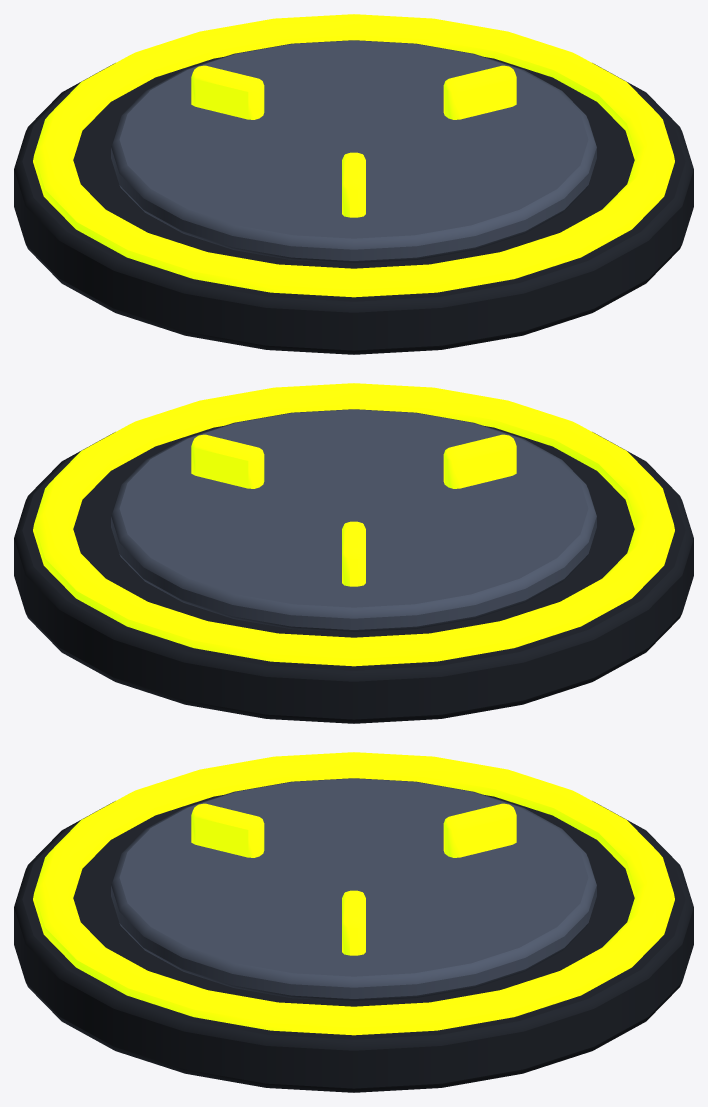
Rendered from jump_pad.glb.
3 views of the same model, one above another, from view 1: azimuth 30°, elevation 25°; view 2: azimuth 150°, elevation 25°; view 3: azimuth 270°, elevation 25° (orthographic).
Parts seen in each view (by area): view 1: jump_pad; view 2: jump_pad; view 3: jump_pad.
Part boxes in pixels (x1=…): jump_pad: x1=14, y1=14, x2=693, y2=354; jump_pad: x1=14, y1=383, x2=693, y2=723; jump_pad: x1=14, y1=752, x2=693, y2=1092.
Bounding box in the file's own units: 1.4 × 0.25 × 1.4.
